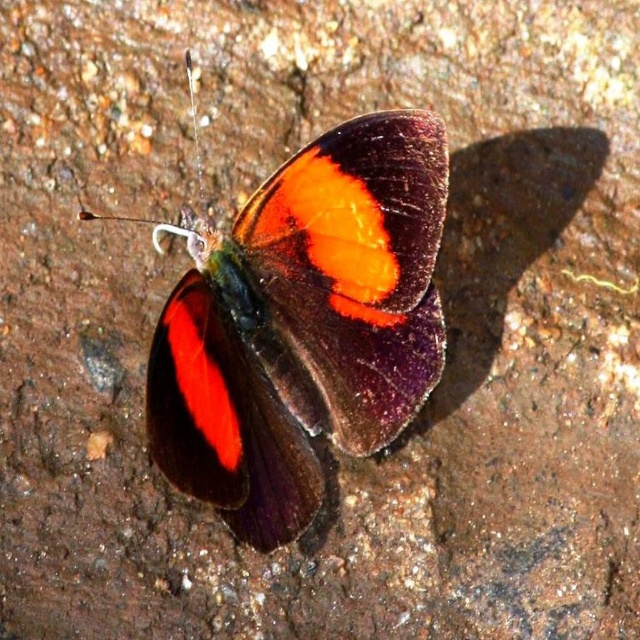Moths and butterflies: (76, 42, 450, 559)
